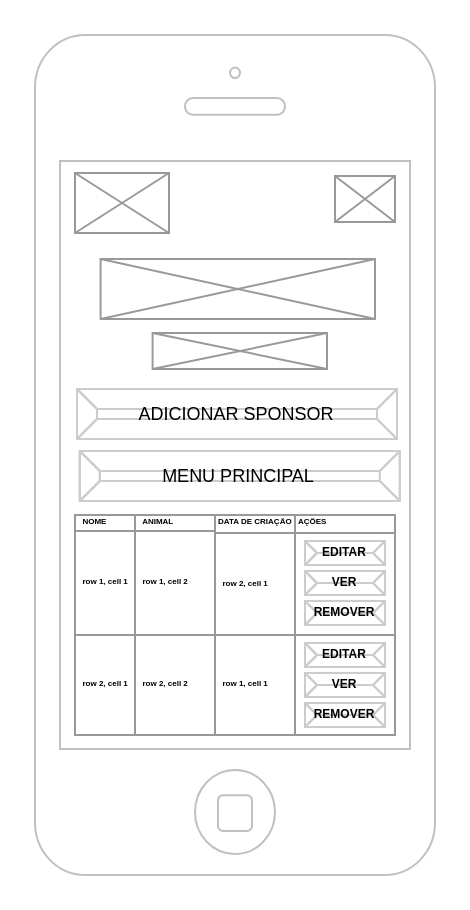
Some shapes in this 470 by 910 pixel diagram are drawn without their labels. Each missing label, with the centre of its shape:
LOGO: point 121,202
MENU: point 364,198
TITULO: point 237,288
